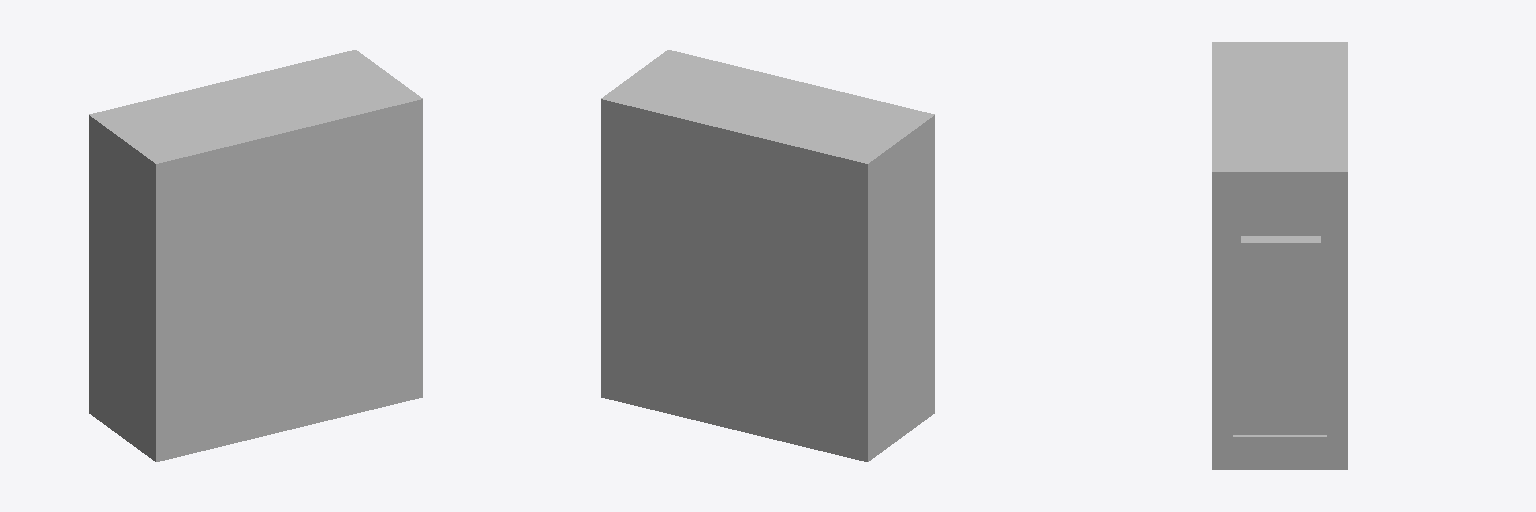
The model's file is Computer.obj.
3 renders of one model, left to right at view 1: azimuth 30°, elevation 25°; view 2: azimuth 150°, elevation 25°; view 3: azimuth 270°, elevation 25°, orthographic.
Parts seen in each view (by area): view 1: Cube; view 2: Cube; view 3: Cube.
Part boxes in pixels (x1,y1,x2,y2): Cube: (89,50,422,461); Cube: (601,50,934,461); Cube: (1212,42,1347,469).
Size of the model in its own units: 1.96 by 2.09 by 0.8571.